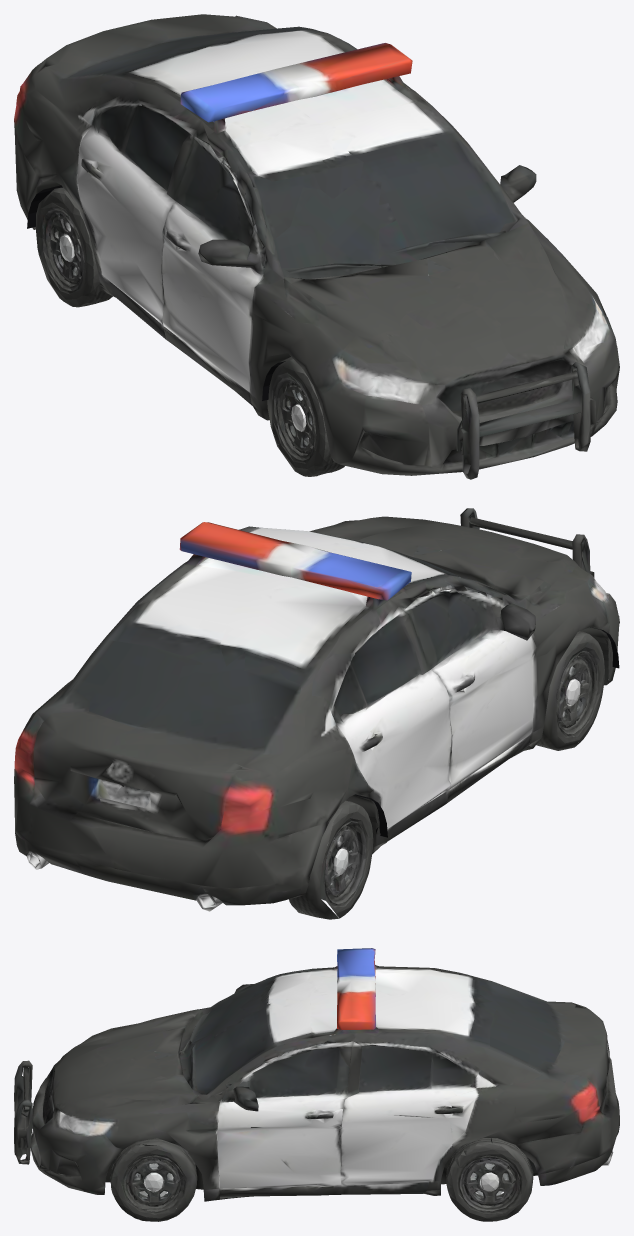
Rendered from car_police_lod.glb.
The picture shows the model from 3 angles, top to bottom: view 1: azimuth 30°, elevation 25°; view 2: azimuth 150°, elevation 25°; view 3: azimuth 270°, elevation 25°; orthographic projection. The views are drawn at different scales.
Parts seen in each view (by area): view 1: body, wheel_RR, wheel_FR; view 2: body, wheel_RR, wheel_FR; view 3: body, wheel_RL, wheel_FL.
Part boxes in pixels (x1,y1,x2,y2): body: [14, 14, 619, 479]; wheel_RR: [36, 191, 112, 307]; wheel_FR: [272, 366, 344, 476]; body: [14, 508, 619, 919]; wheel_RR: [320, 800, 377, 918]; wheel_FR: [556, 631, 610, 746]; body: [14, 948, 619, 1221]; wheel_RL: [441, 1138, 527, 1221]; wheel_FL: [104, 1142, 186, 1221].
Size of the model in its own units: 2.31 by 1.73 by 5.
Materials: 2 (1 with a texture image).
